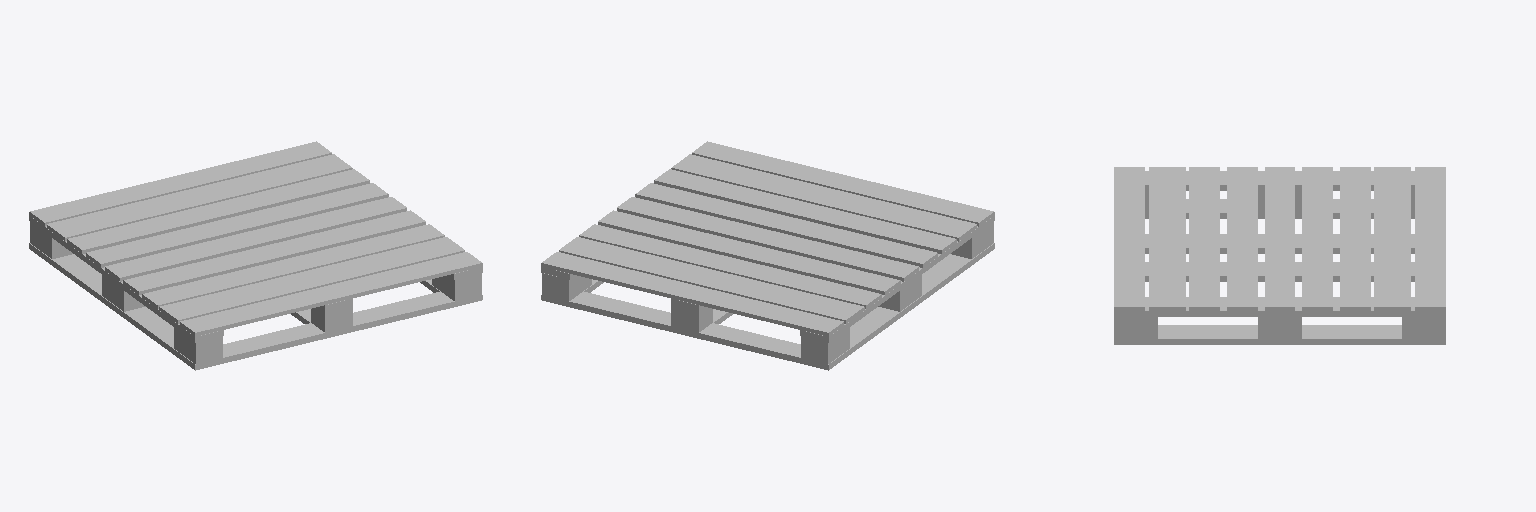
File: tuopan.obj
3 views of the same model, side by side, from view 1: azimuth 30°, elevation 25°; view 2: azimuth 150°, elevation 25°; view 3: azimuth 270°, elevation 25° (orthographic).
Parts seen in each view (by area): view 1: ImportedMesh3; view 2: ImportedMesh3; view 3: ImportedMesh3.
Boxes of the visible parts, x1=… form: ImportedMesh3: x1=29, y1=141, x2=482, y2=370; ImportedMesh3: x1=541, y1=141, x2=994, y2=370; ImportedMesh3: x1=1114, y1=167, x2=1445, y2=344.
Size of the model in its own units: 1.2 by 0.15 by 1.2.